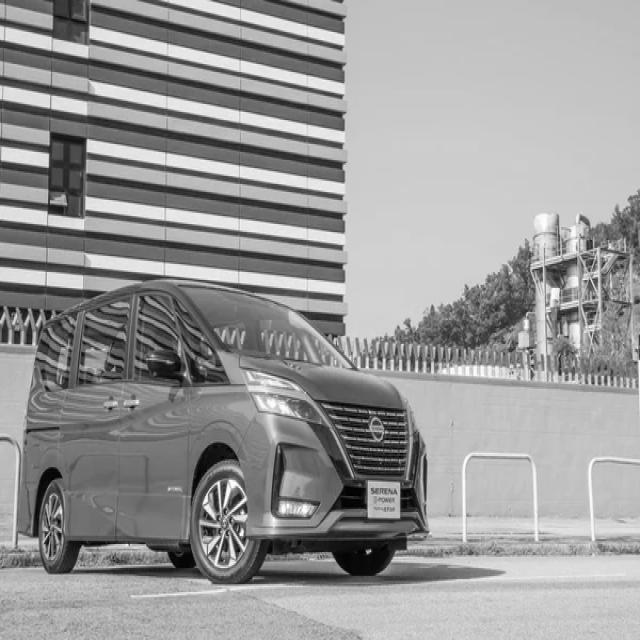Car: (18, 282, 426, 583)
